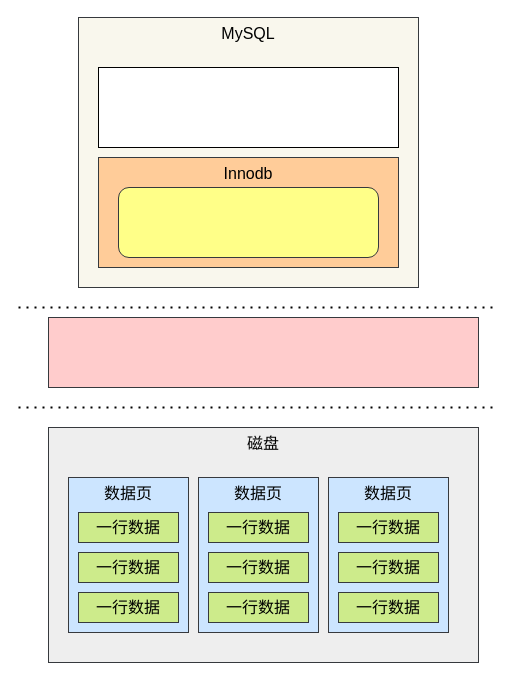
Some shapes in this 517 by 680 pixel diagram are drawn without their labels. Each missing label, with the centre of its shape:
"Buffer pool" goes at [248,222].
"Sever" goes at [248,107].
"操作系统" goes at [263,352].
